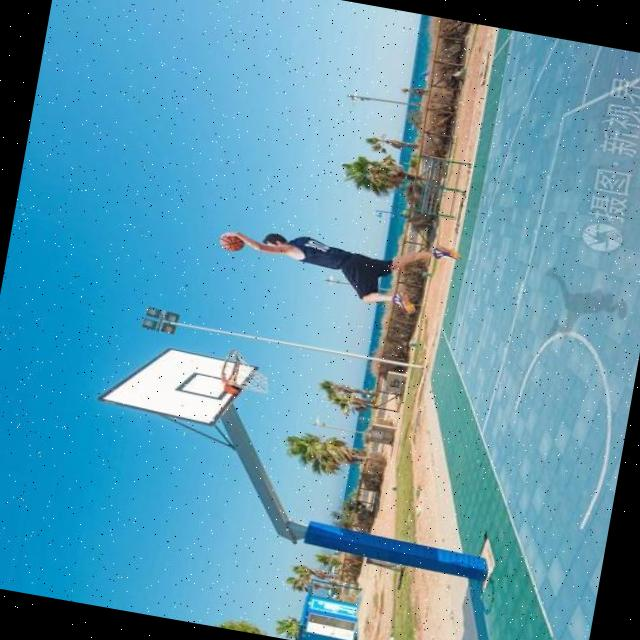ball: (218, 232, 244, 252)
hoop: (216, 345, 244, 388)
